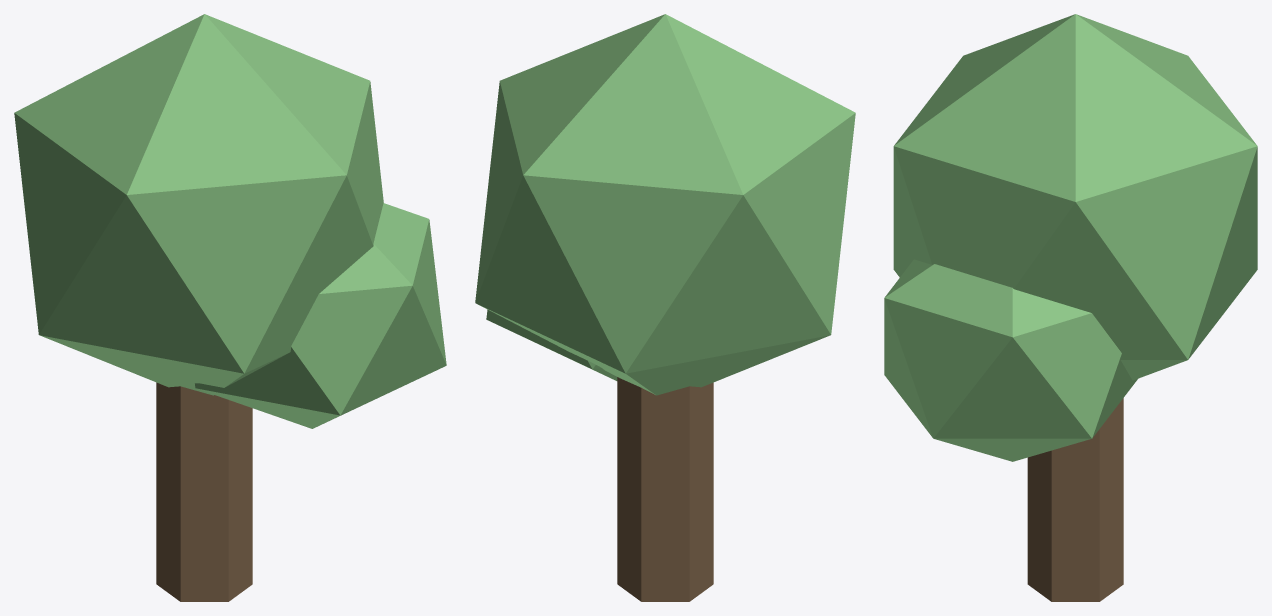
The model's file is oak.glb.
3 renders of one model, left to right at view 1: azimuth 30°, elevation 25°; view 2: azimuth 150°, elevation 25°; view 3: azimuth 270°, elevation 25°, orthographic.
Visible parts, largest first — view 1: OakCrown, OakCrown2, OakTrunk; view 2: OakCrown, OakTrunk, OakCrown2; view 3: OakCrown, OakCrown2, OakTrunk.
Boxes of the visible parts, left/top/right/bottom form: OakCrown: left=14, top=14, right=383, bottom=395; OakCrown2: left=195, top=203, right=446, bottom=428; OakTrunk: left=156, top=382, right=252, bottom=601; OakCrown: left=475, top=14, right=855, bottom=395; OakTrunk: left=617, top=377, right=713, bottom=601; OakCrown2: left=486, top=309, right=617, bottom=380; OakCrown: left=893, top=14, right=1257, bottom=380; OakCrown2: left=884, top=259, right=1137, bottom=461; OakTrunk: left=1027, top=398, right=1123, bottom=601.
Bounding box in the file's own units: 1.12 × 1.7 × 1.01.
